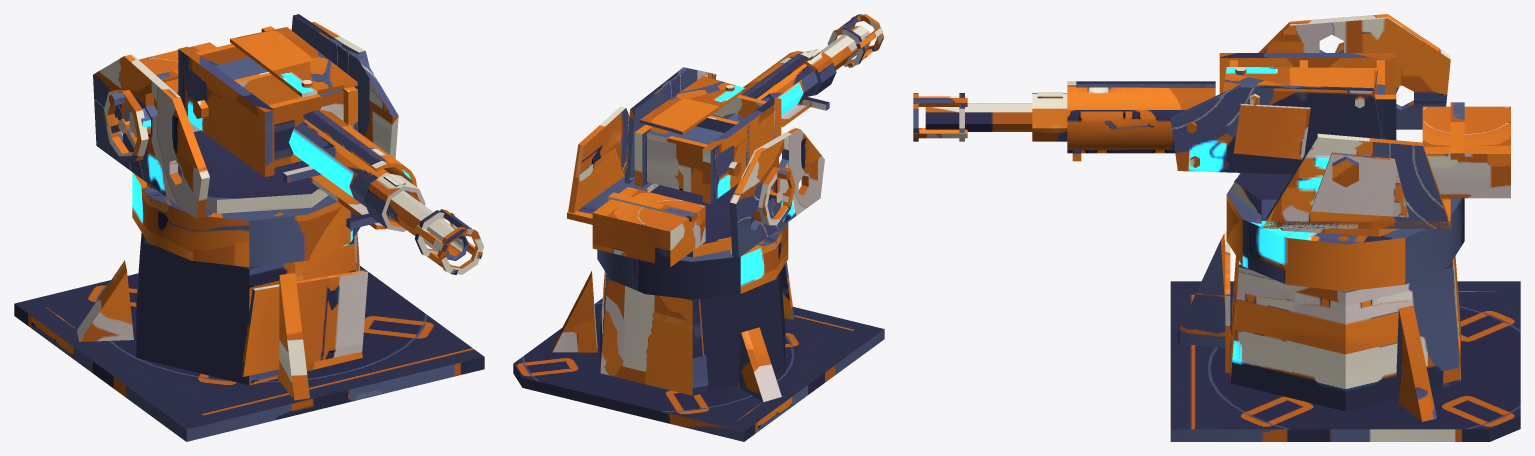
The model's file is R4W_Basic_LOD1.fbx.
The picture shows the model from 3 angles, left to right: view 1: azimuth 30°, elevation 25°; view 2: azimuth 150°, elevation 25°; view 3: azimuth 270°, elevation 25°; orthographic projection. The views are drawn at different scales.
Visible parts, largest first — view 1: R4W_Basic_LOD1; view 2: R4W_Basic_LOD1; view 3: R4W_Basic_LOD1.
Part boxes in pixels (<box>): R4W_Basic_LOD1: <box>14,14,484,441</box>; R4W_Basic_LOD1: <box>513,14,884,441</box>; R4W_Basic_LOD1: <box>913,14,1520,441</box>.
Size of the model in its own units: 0.5 by 0.492 by 0.868.
